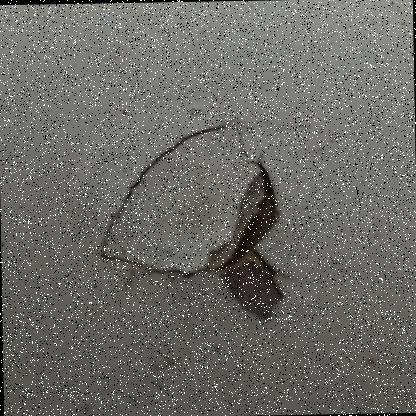Crack: (60, 72, 338, 334)
